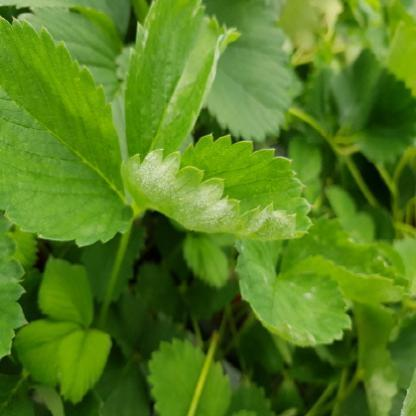Strawberry_Powdery_Mildew_Leaf: (121, 132, 315, 243), (122, 0, 244, 161), (235, 238, 352, 348)
